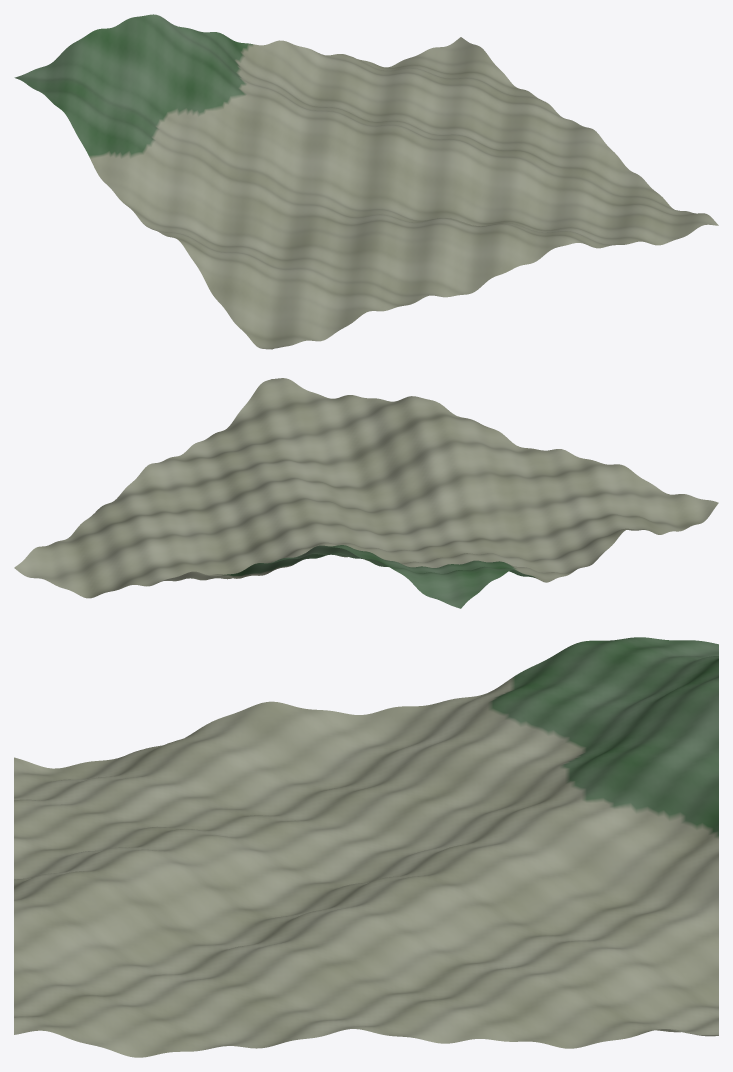
File: terrain_3_0.glb
The picture shows the model from 3 angles, top to bottom: view 1: azimuth 30°, elevation 25°; view 2: azimuth 150°, elevation 25°; view 3: azimuth 270°, elevation 25°; orthographic projection. The views are drawn at different scales.
Parts seen in each view (by area): view 1: terrain_3_0; view 2: terrain_3_0; view 3: terrain_3_0.
Boxes of the visible parts, box(x1,y1,x2,y2) form: terrain_3_0: box(14, 14, 718, 349); terrain_3_0: box(14, 378, 718, 608); terrain_3_0: box(14, 637, 718, 1057).
Size of the model in its own units: 512 by 135 by 512.
